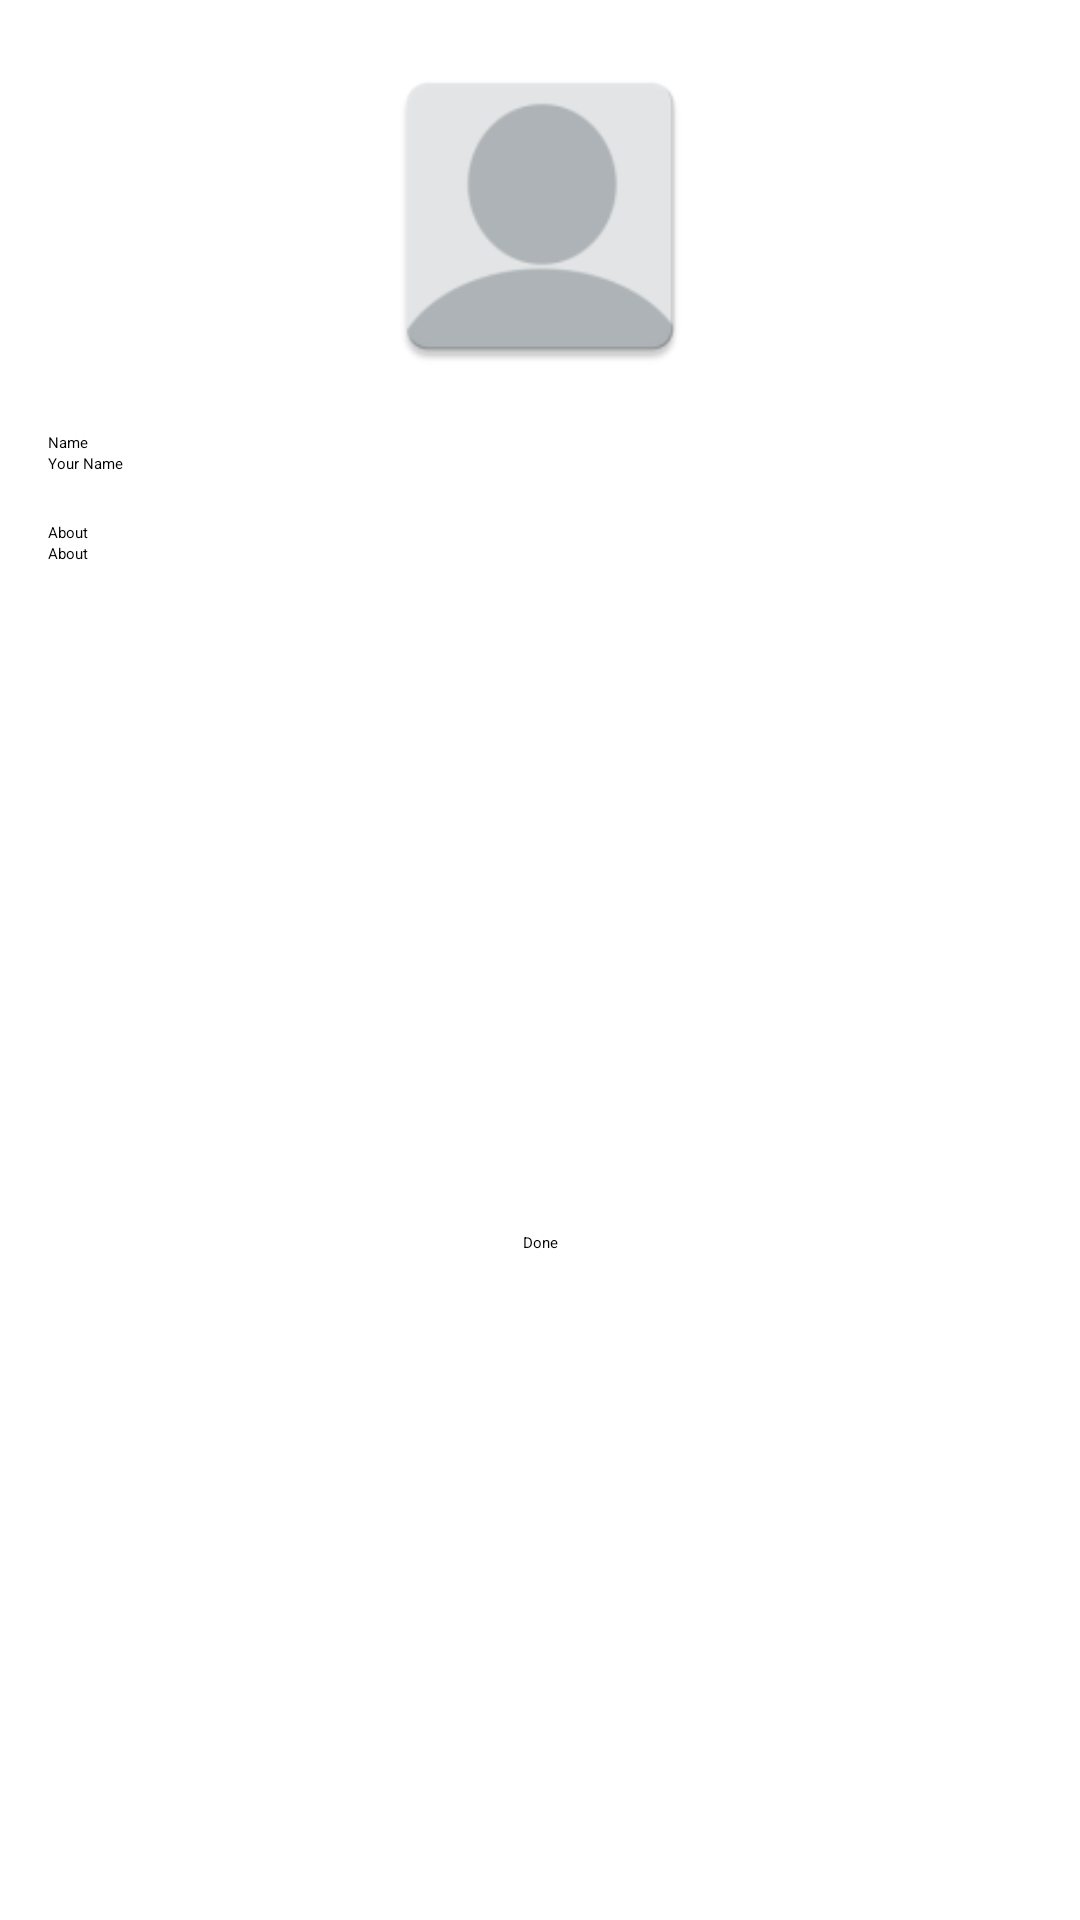

Named icons in this screenshot (1080px x 1920px) and their centers, (x=x, y=y):
profile pic: (x=540, y=220)
